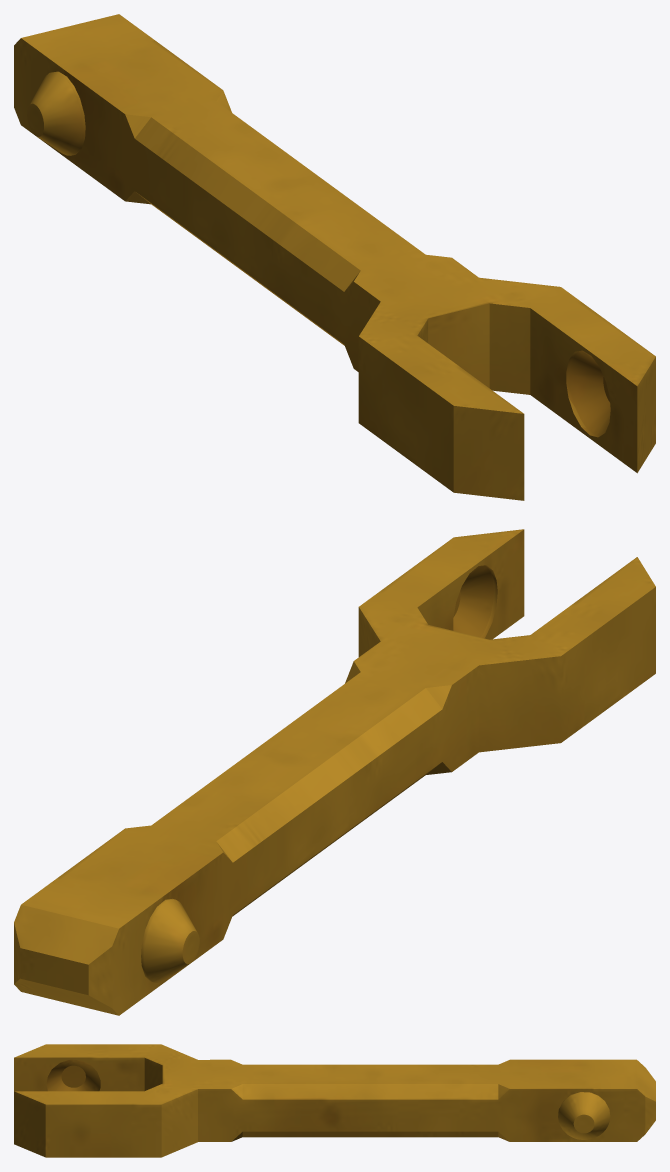
Rendered from inserter-arm-basic-upper.glb.
The picture shows the model from 3 angles, top to bottom: view 1: azimuth 30°, elevation 25°; view 2: azimuth 150°, elevation 25°; view 3: azimuth 270°, elevation 25°; orthographic projection. The views are drawn at different scales.
Visible parts, largest first — view 1: body; view 2: body; view 3: body.
Part boxes in pixels (bbox=[...]): body: bbox=[14, 14, 655, 500]; body: bbox=[14, 529, 655, 1015]; body: bbox=[14, 1044, 655, 1157].
Size of the model in its own units: 0.2197 by 0.0905 by 0.9905.
1 material, 1 textured.
